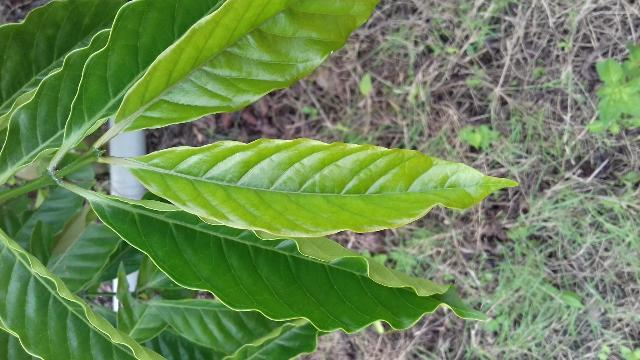healthy: (104, 133, 532, 241)
